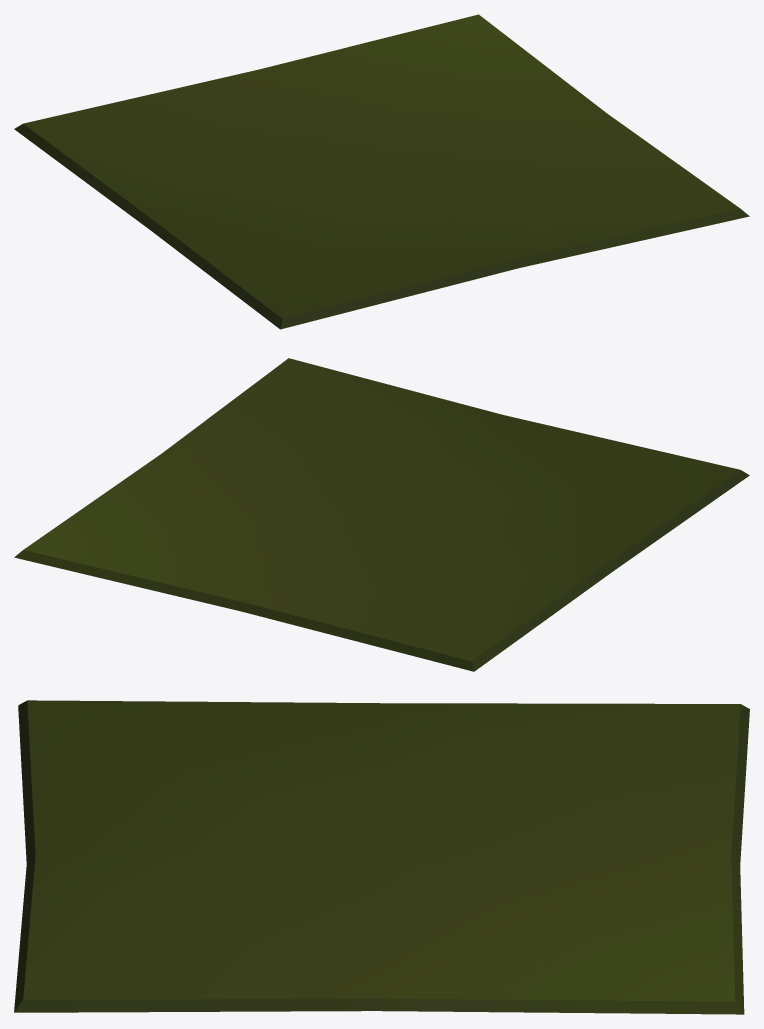
Rendered from Nori_001.gltf.
The picture shows the model from 3 angles, top to bottom: view 1: azimuth 30°, elevation 25°; view 2: azimuth 150°, elevation 25°; view 3: azimuth 270°, elevation 25°; orthographic projection. The views are drawn at different scales.
Visible parts, largest first — view 1: Nori_001_x; view 2: Nori_001_x; view 3: Nori_001_x.
Boxes of the visible parts, x1,y1,x2,y2 form: Nori_001_x: [14, 14, 749, 329]; Nori_001_x: [14, 358, 749, 671]; Nori_001_x: [14, 700, 749, 1014].
Bounding box in the file's own units: 2.03 × 0.0272 × 2.04.
1 material, 1 textured.
